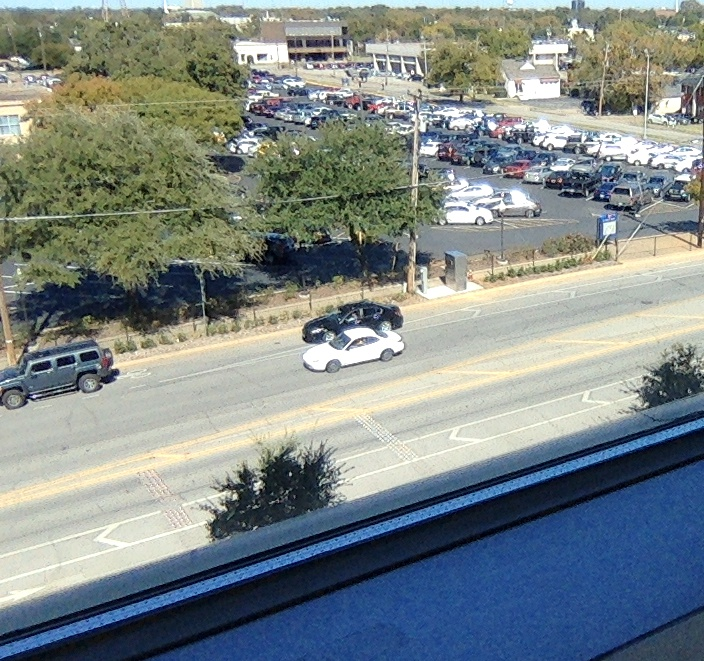car: (300, 300, 404, 361)
